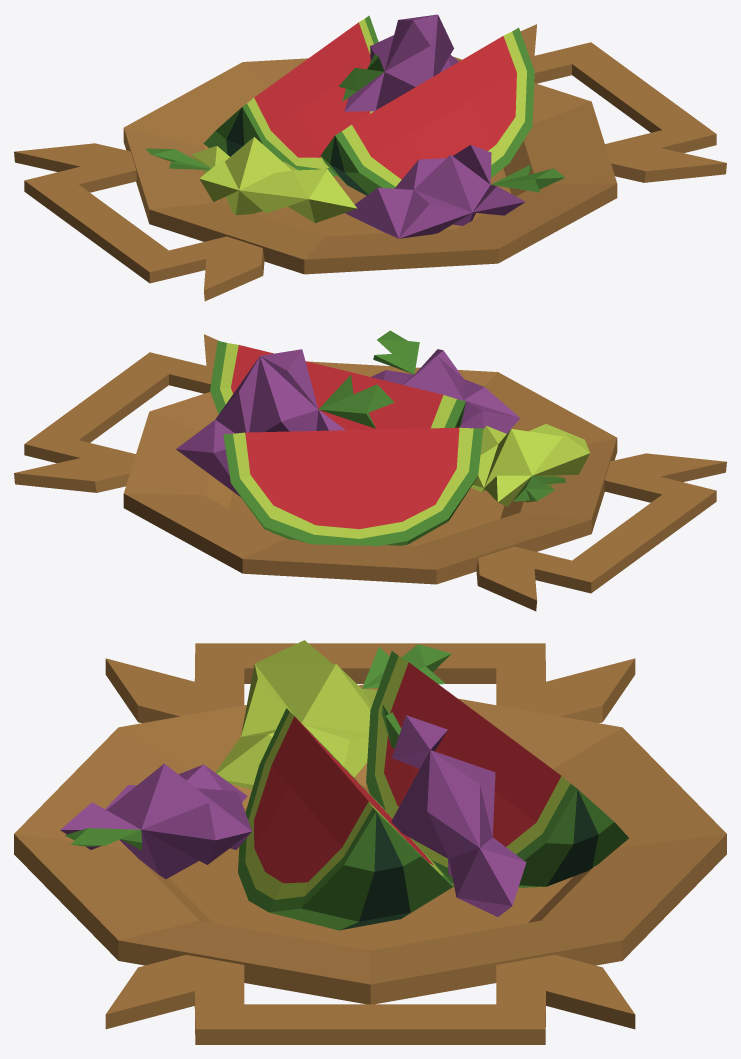
The model's file is empire-plate-fruit-empire.glb.
3 renders of one model, top to bottom at view 1: azimuth 30°, elevation 25°; view 2: azimuth 150°, elevation 25°; view 3: azimuth 270°, elevation 25°, orthographic. The views are drawn at different scales.
Visible parts, largest first — view 1: SM_Plate_Fruit_Empire; view 2: SM_Plate_Fruit_Empire; view 3: SM_Plate_Fruit_Empire.
Part boxes in pixels (x1,y1,x2,y2): SM_Plate_Fruit_Empire: (14, 14, 726, 301); SM_Plate_Fruit_Empire: (14, 330, 726, 611); SM_Plate_Fruit_Empire: (14, 640, 726, 1044).
Bounding box in the file's own units: 0.9707 × 0.2486 × 0.7576.
